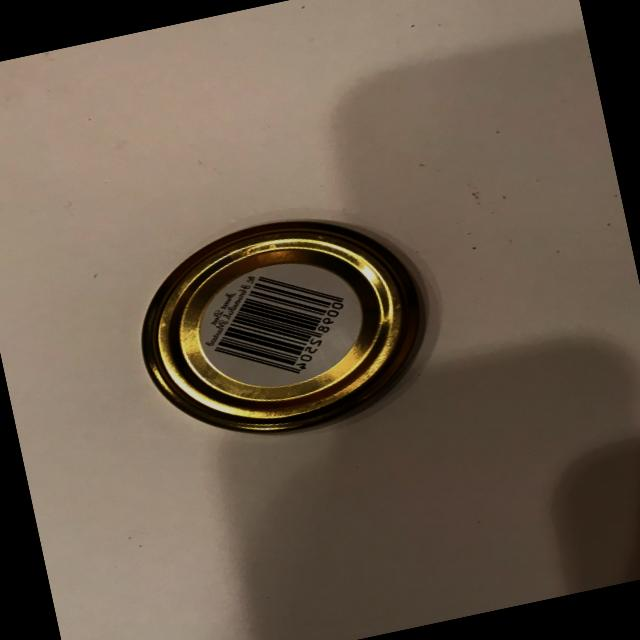Metal: (96, 178, 458, 480)
